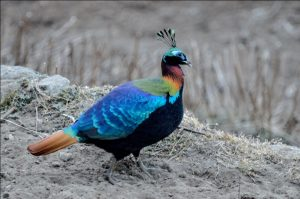bird: (29, 21, 210, 174)
